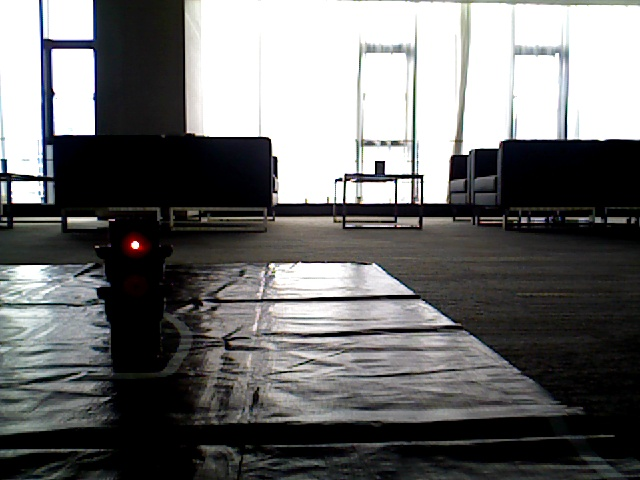red: (106, 215, 160, 333)
